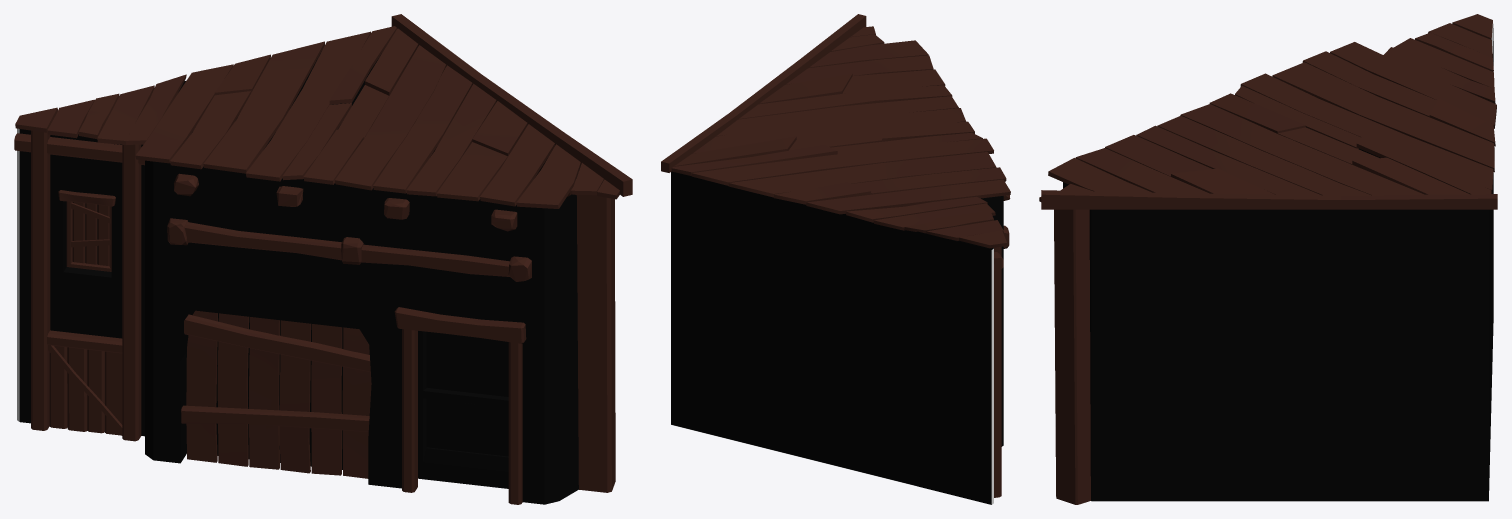
Rendered from civilian_house_46.FBX.
3 renders of one model, left to right at view 1: azimuth 30°, elevation 25°; view 2: azimuth 150°, elevation 25°; view 3: azimuth 270°, elevation 25°, orthographic. The views are drawn at different scales.
Visible parts, largest first — view 1: civilian_house_46; view 2: civilian_house_46; view 3: civilian_house_46.
Boxes of the visible parts, box(x1,y1,x2,y2) form: civilian_house_46: box(14, 14, 632, 504); civilian_house_46: box(661, 14, 1010, 504); civilian_house_46: box(1039, 14, 1497, 504).
Bounding box in the file's own units: 520 × 396 × 528.
